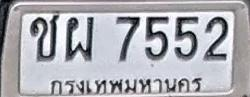2: (203, 16, 228, 60)
5: (174, 15, 199, 60), (144, 15, 168, 60)
7: (116, 15, 140, 62)
A10: (30, 12, 60, 62)
A28: (64, 16, 94, 61)
BKK: (45, 73, 205, 95)
